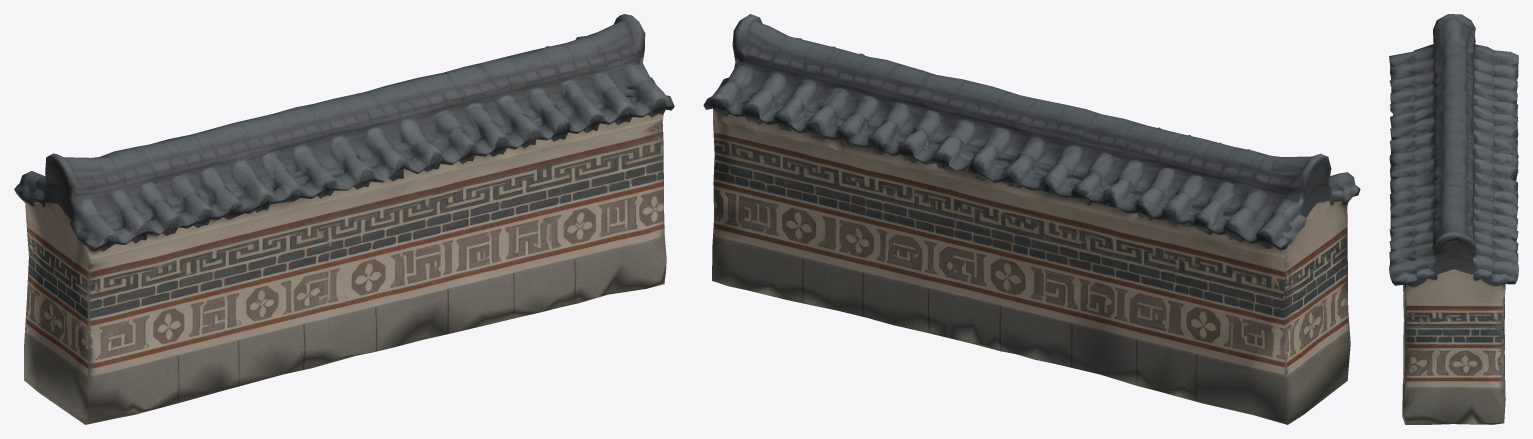
The model's file is PR_PalaceWall.fbx.
The picture shows the model from 3 angles, left to right: view 1: azimuth 30°, elevation 25°; view 2: azimuth 150°, elevation 25°; view 3: azimuth 270°, elevation 25°; orthographic projection. The views are drawn at different scales.
Parts seen in each view (by area): view 1: texture_mapping; view 2: texture_mapping; view 3: texture_mapping.
Part boxes in pixels (x1=…): texture_mapping: x1=14, y1=14, x2=674, y2=424; texture_mapping: x1=703, y1=14, x2=1360, y2=424; texture_mapping: x1=1389, y1=14, x2=1518, y2=424.
Bounding box in the file's own units: 0.9996 × 0.2459 × 0.407.
1 material, 1 textured.
